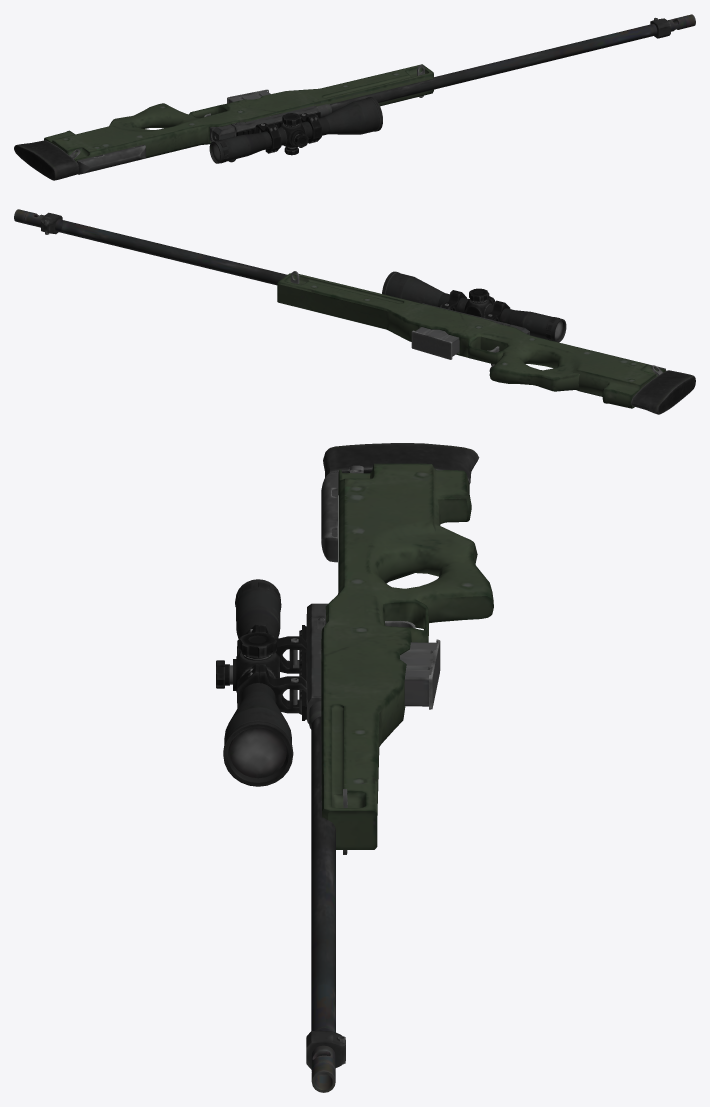
File: AWP_1.glb
3 renders of one model, top to bottom at view 1: azimuth 30°, elevation 25°; view 2: azimuth 150°, elevation 25°; view 3: azimuth 270°, elevation 25°, orthographic. The views are drawn at different scales.
Parts seen in each view (by area): view 1: AWP_upd, AWP_upd_scope, AWP_upd_bolt1, AWP_upd_mag; view 2: AWP_upd, AWP_upd_scope, AWP_upd_mag; view 3: AWP_upd, AWP_upd_scope, AWP_upd_mag.
Boxes of the visible parts, x1,y1,x2,y2 form: AWP_upd: (14, 14, 695, 180); AWP_upd_scope: (209, 97, 382, 163); AWP_upd_bolt1: (210, 124, 235, 141); AWP_upd_mag: (227, 89, 270, 103); AWP_upd: (14, 209, 695, 414); AWP_upd_scope: (382, 271, 566, 342); AWP_upd_mag: (411, 327, 459, 359); AWP_upd: (299, 443, 493, 1092); AWP_upd_scope: (216, 579, 306, 786); AWP_upd_mag: (400, 639, 440, 709).
Bounding box in the file's own units: 1.12 × 0.0879 × 0.2107.
Materials: 1 (1 with a texture image).
